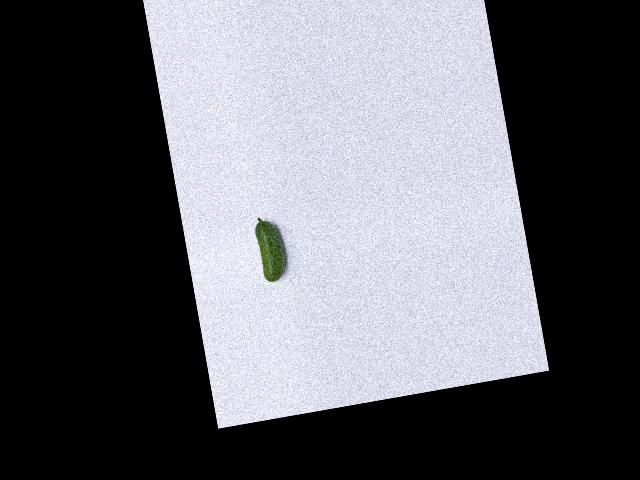cucumber: (253, 214, 289, 283)
